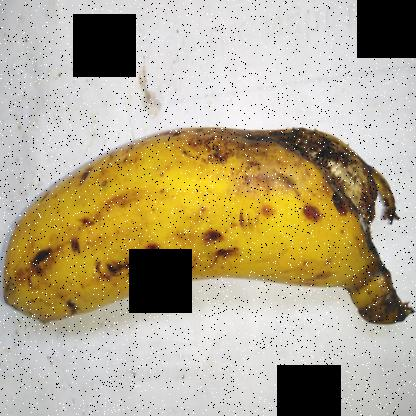ripe: (0, 109, 415, 341)
rotten: (251, 102, 405, 241)
